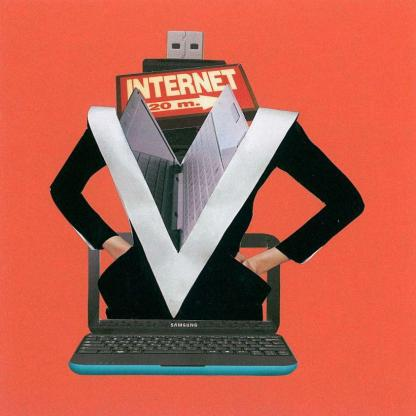board: (68, 233, 300, 376), (120, 84, 252, 252)
